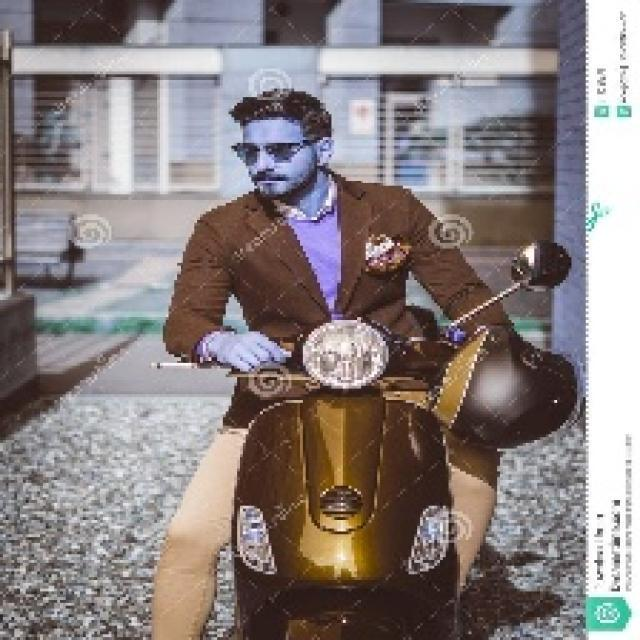bike: (208, 330, 488, 640)
